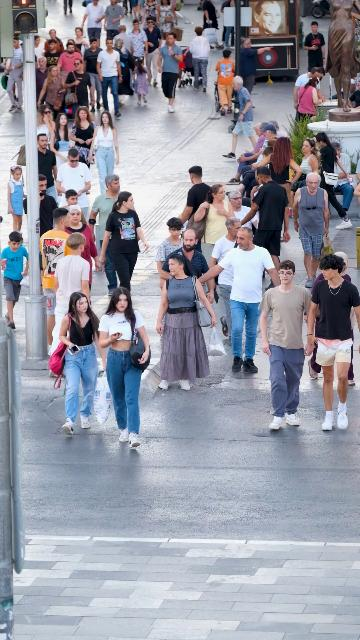person: (196, 226, 282, 375), (255, 259, 314, 431), (306, 254, 360, 433), (153, 253, 218, 392), (98, 287, 150, 450), (57, 291, 102, 435), (237, 166, 291, 285), (49, 232, 92, 357), (99, 191, 150, 294), (250, 136, 303, 230), (305, 132, 353, 230), (39, 207, 73, 345), (291, 172, 331, 289), (209, 216, 242, 337), (162, 229, 215, 304), (224, 122, 277, 186), (63, 204, 101, 290), (194, 183, 234, 260), (222, 75, 258, 160), (88, 174, 125, 255), (0, 231, 29, 330), (55, 148, 92, 225), (230, 139, 276, 197), (89, 111, 120, 195), (23, 174, 59, 239), (154, 217, 184, 293), (237, 38, 274, 95), (96, 38, 122, 118), (177, 166, 212, 225), (158, 32, 183, 113), (181, 26, 211, 92), (62, 58, 95, 116), (36, 65, 70, 120), (68, 107, 97, 168), (289, 137, 320, 193), (331, 142, 355, 214), (49, 113, 75, 177), (4, 36, 24, 113), (83, 37, 103, 112), (292, 67, 325, 110), (294, 78, 325, 123), (37, 133, 58, 198), (215, 49, 235, 115), (7, 165, 26, 233), (303, 21, 327, 74), (143, 17, 161, 87), (228, 191, 258, 232), (80, 0, 106, 45), (103, 0, 125, 49), (36, 105, 55, 154), (57, 43, 84, 76), (132, 59, 150, 105), (130, 19, 149, 62), (202, 0, 219, 48), (42, 39, 64, 76), (241, 122, 262, 156), (66, 27, 87, 58), (35, 56, 49, 99), (250, 147, 274, 171), (44, 29, 65, 56), (113, 25, 133, 52), (34, 35, 46, 70), (268, 120, 288, 138), (63, 189, 80, 208), (56, 39, 65, 52)
